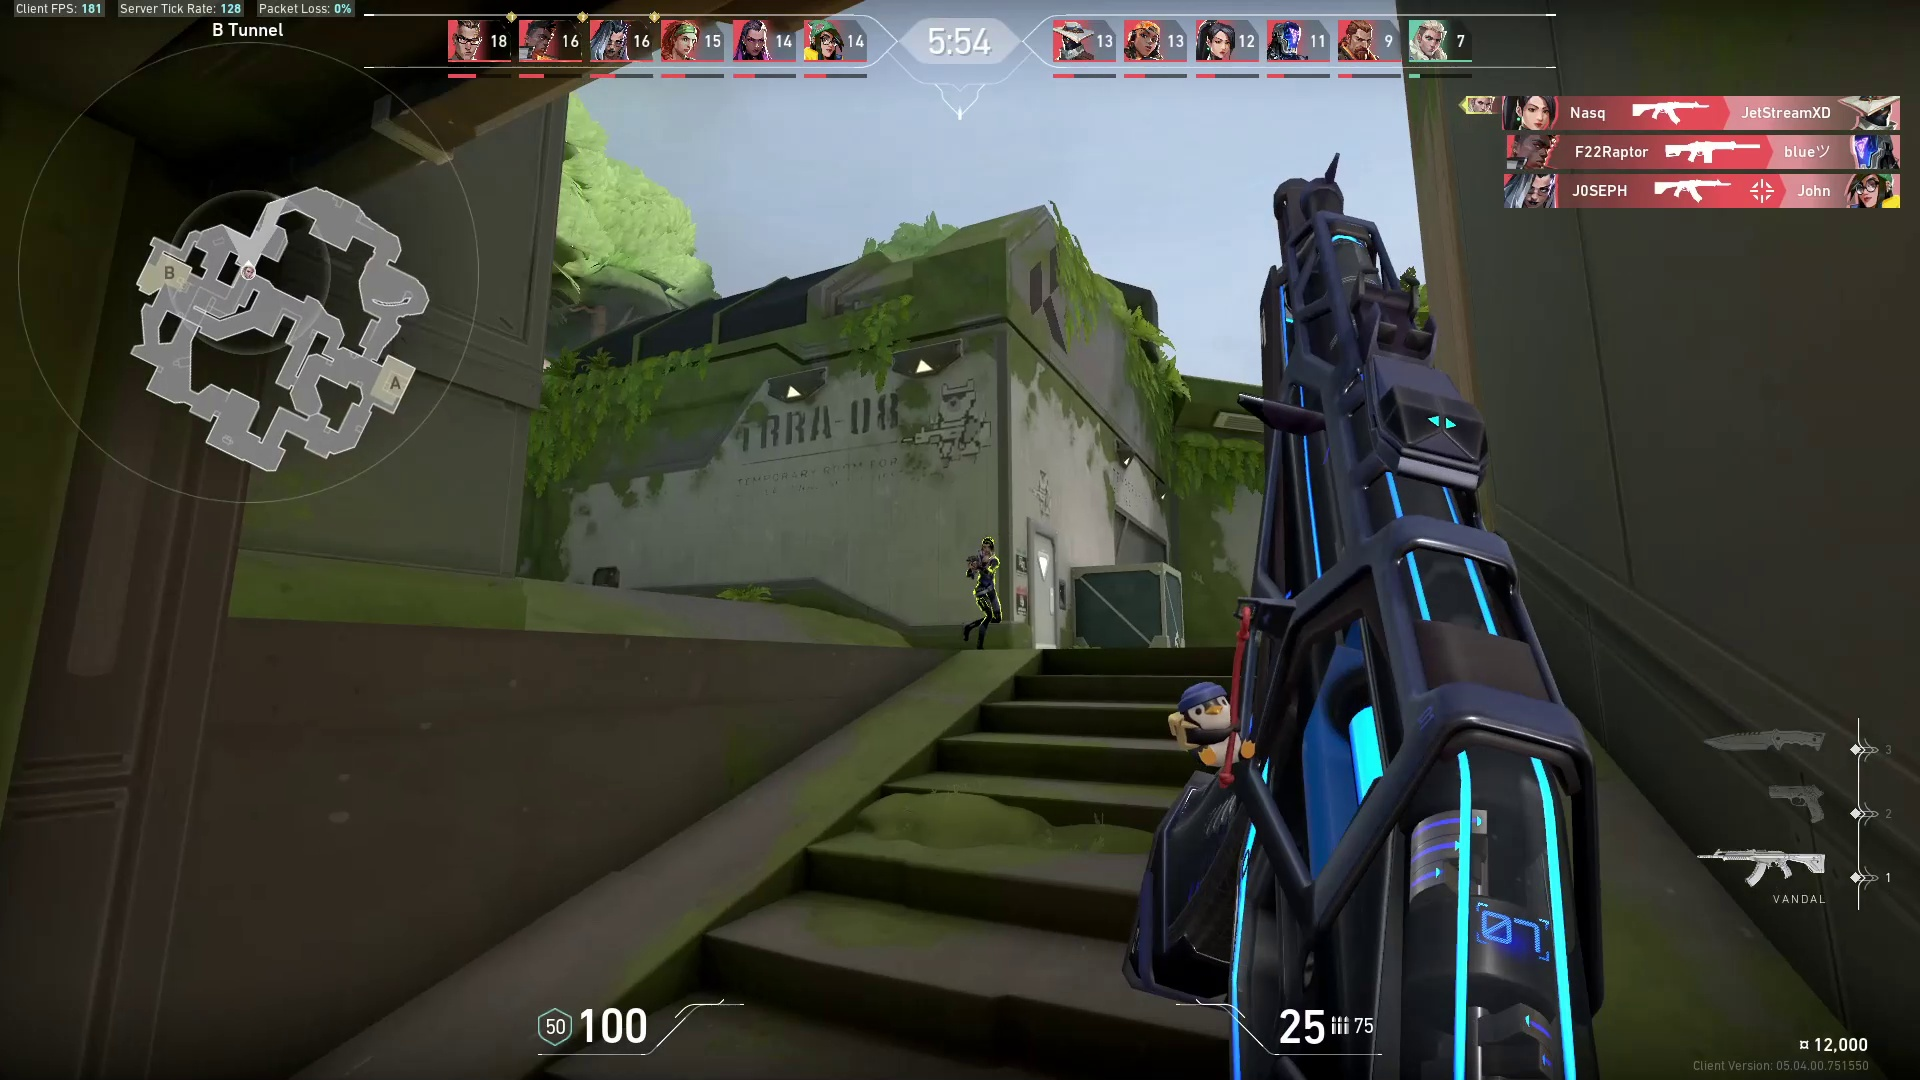enemy_body: (960, 554, 1007, 655)
enemy_head: (975, 530, 1000, 555)
